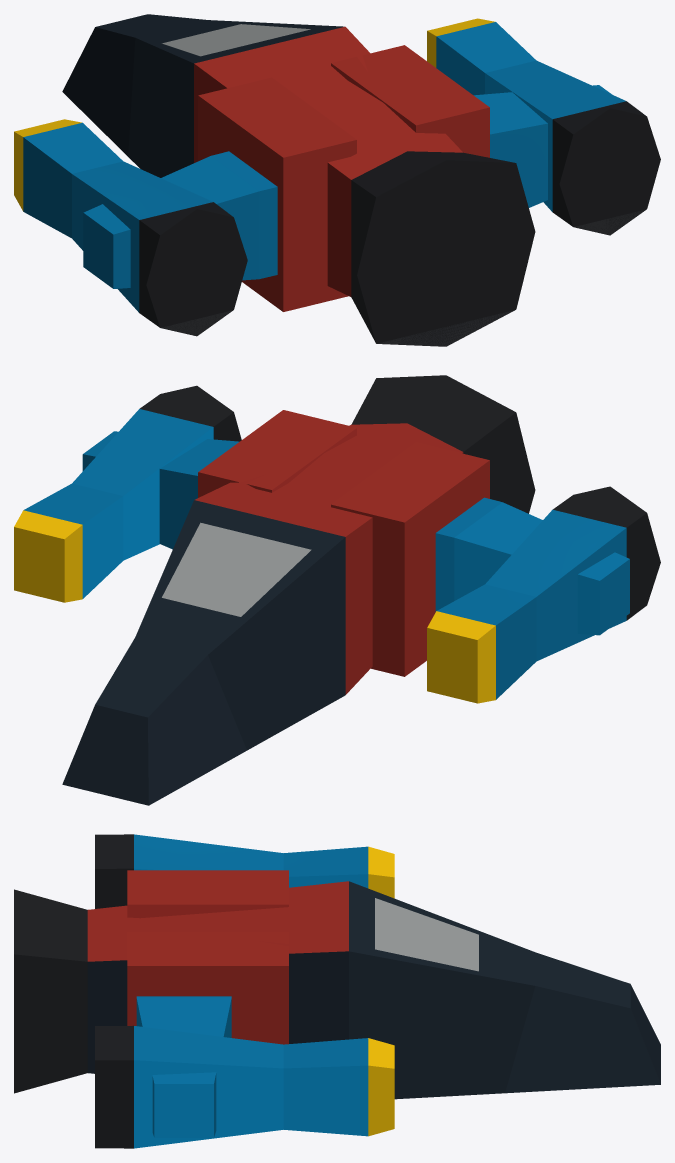
The model's file is ship.glb.
3 renders of one model, top to bottom at view 1: azimuth 30°, elevation 25°; view 2: azimuth 150°, elevation 25°; view 3: azimuth 270°, elevation 25°, orthographic. The views are drawn at different scales.
Parts seen in each view (by area): view 1: Ship; view 2: Ship; view 3: Ship.
Boxes of the visible parts, box(x1,y1,x2,y2) form: Ship: box(14, 14, 660, 346); Ship: box(14, 375, 660, 805); Ship: box(14, 834, 660, 1148).
Size of the model in its own units: 3.5 by 1.21 by 4.
Materials: 1 (1 with a texture image).
